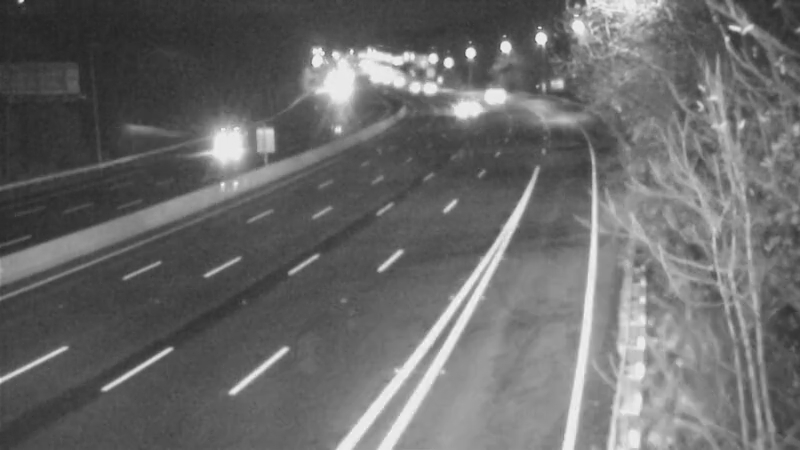vehicle: (179, 116, 259, 196), (462, 62, 512, 112), (445, 82, 495, 132)
